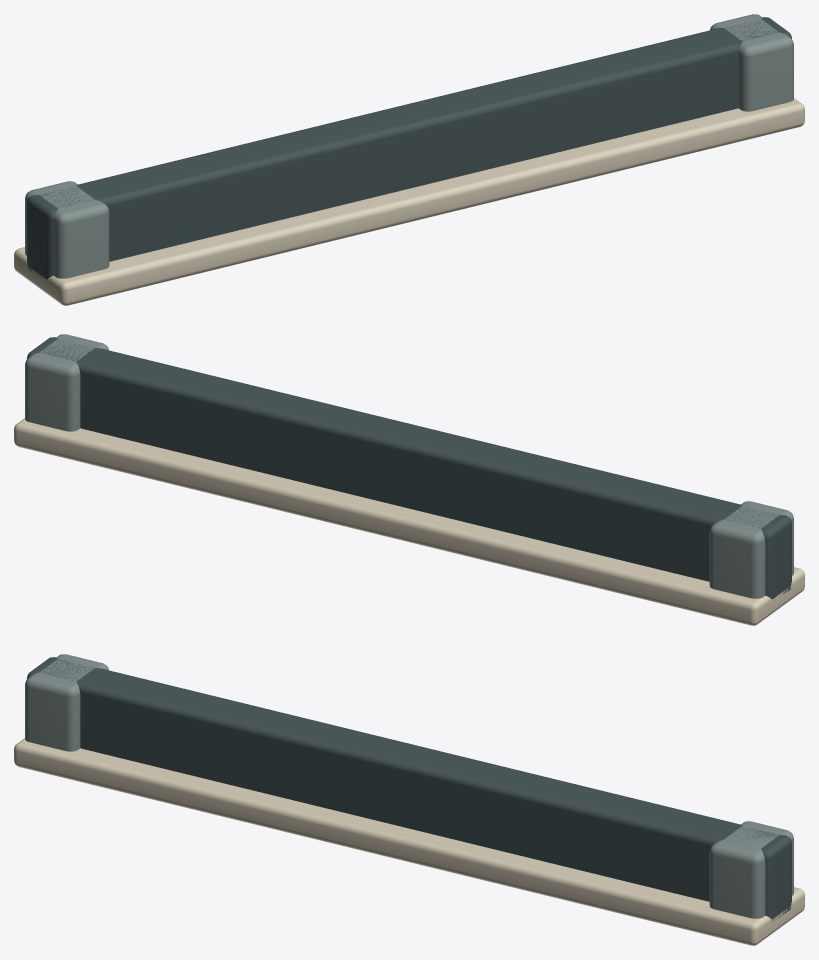
File: ceiling-beam-2m.glb
3 renders of one model, top to bottom at view 1: azimuth 30°, elevation 25°; view 2: azimuth 150°, elevation 25°; view 3: azimuth 330°, elevation 25°, orthographic.
Visible parts, largest first — view 1: ceiling-beam-2m / 06 • dark anodized frame, ceiling-beam-2m / 01 • warm porcelain paint, ceiling-beam-2m / 05 • brushed titanium; view 2: ceiling-beam-2m / 06 • dark anodized frame, ceiling-beam-2m / 01 • warm porcelain paint, ceiling-beam-2m / 05 • brushed titanium; view 3: ceiling-beam-2m / 06 • dark anodized frame, ceiling-beam-2m / 01 • warm porcelain paint, ceiling-beam-2m / 05 • brushed titanium.
Part boxes in pixels (left/top/right/bottom): ceiling-beam-2m / 06 • dark anodized frame: left=27, top=17, right=791, bottom=279; ceiling-beam-2m / 01 • warm porcelain paint: left=14, top=98, right=804, bottom=305; ceiling-beam-2m / 05 • brushed titanium: left=25, top=14, right=793, bottom=278; ceiling-beam-2m / 06 • dark anodized frame: left=27, top=337, right=791, bottom=599; ceiling-beam-2m / 01 • warm porcelain paint: left=14, top=418, right=804, bottom=625; ceiling-beam-2m / 05 • brushed titanium: left=25, top=334, right=793, bottom=598; ceiling-beam-2m / 06 • dark anodized frame: left=27, top=657, right=791, bottom=922; ceiling-beam-2m / 01 • warm porcelain paint: left=14, top=738, right=804, bottom=945; ceiling-beam-2m / 05 • brushed titanium: left=25, top=654, right=793, bottom=918.
Bounding box in the file's own units: 2 × 0.2375 × 0.24.
